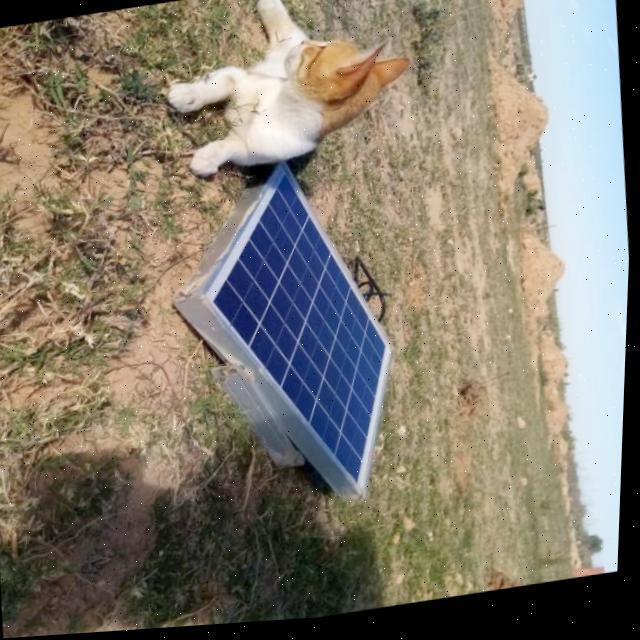Normal Solar Panel: (185, 151, 414, 524)
